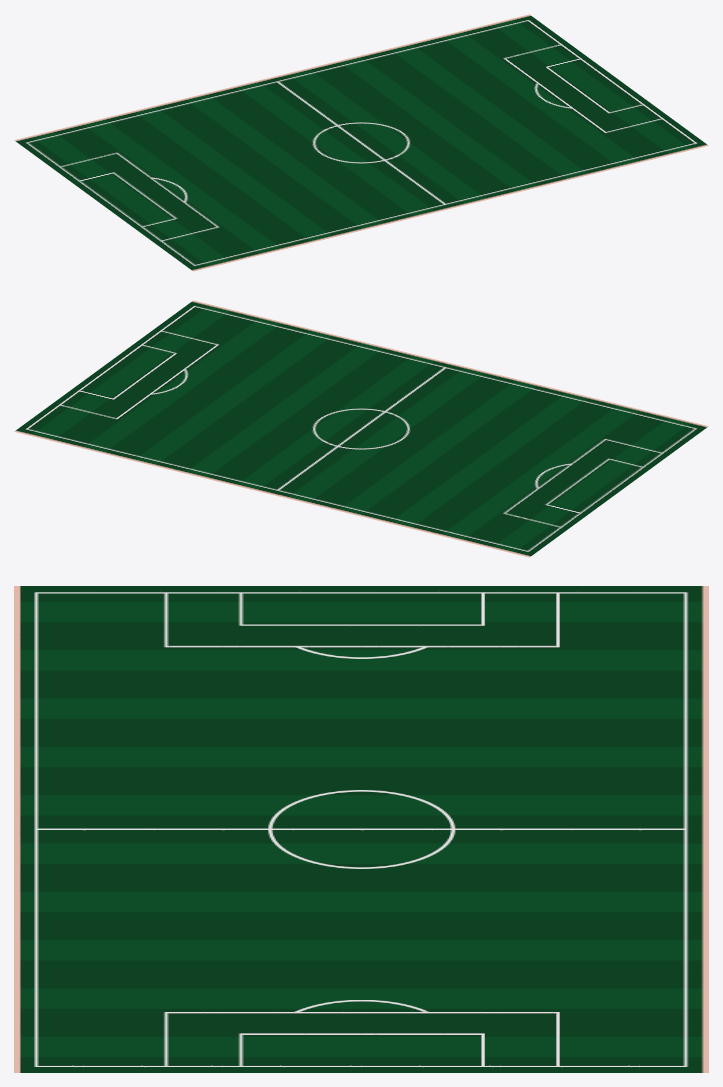
File: field_1.fbx
The picture shows the model from 3 angles, top to bottom: view 1: azimuth 30°, elevation 25°; view 2: azimuth 150°, elevation 25°; view 3: azimuth 270°, elevation 25°; orthographic projection. The views are drawn at different scales.
Visible parts, largest first — view 1: Field_01; view 2: Field_01; view 3: Field_01.
Boxes of the visible parts, bbox=[...] form: Field_01: bbox=[14, 14, 708, 271]; Field_01: bbox=[14, 300, 708, 557]; Field_01: bbox=[14, 586, 708, 1072].
Bounding box in the file's own units: 4.71 × 0 × 2.84.
1 material, 1 textured.
